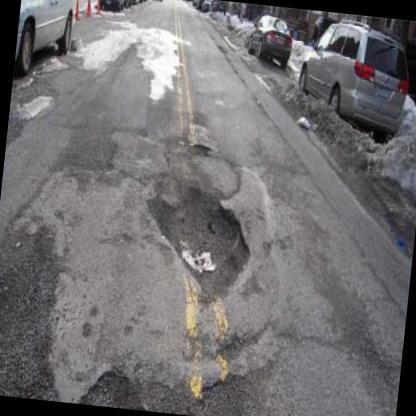pothole: (192, 138, 212, 158)
